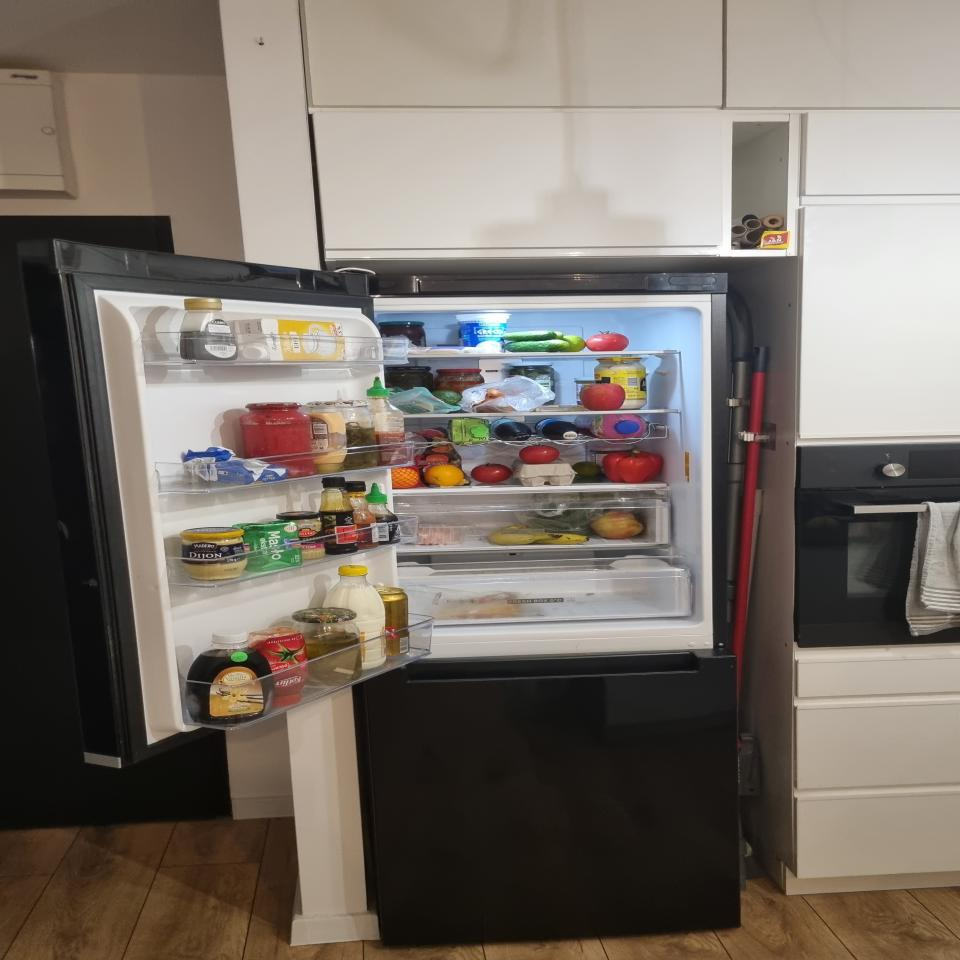Aguacate: (429, 390, 462, 413)
Carne pollo: (404, 513, 476, 545)
Huevos: (510, 458, 577, 486)
Leche: (320, 564, 386, 670), (226, 317, 348, 361)
Lechuga/Endivia: (524, 491, 644, 536)
Mantequilla: (182, 446, 289, 485), (232, 521, 303, 571)
Manzana: (590, 511, 644, 539), (580, 383, 625, 411)
Pepino: (501, 331, 569, 352)
Plátano: (488, 525, 590, 545)
Queso: (438, 592, 522, 620), (534, 405, 586, 412)
Tomate: (585, 330, 629, 352), (518, 444, 560, 464), (470, 462, 512, 482)
Yogur: (454, 313, 512, 353)
Zanahoria: (472, 388, 516, 413)
